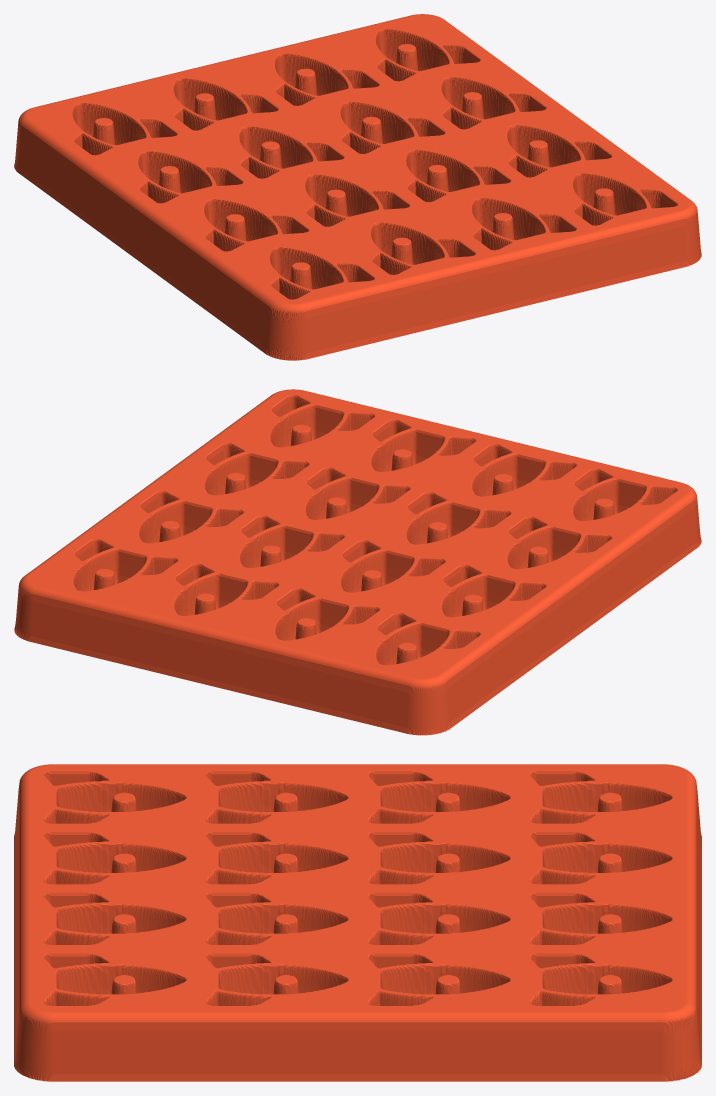
Rendered from mold.glb.
3 views of the same model, one above another, from view 1: azimuth 30°, elevation 25°; view 2: azimuth 150°, elevation 25°; view 3: azimuth 270°, elevation 25° (orthographic). The views are drawn at different scales.
Visible parts, largest first — view 1: geometry_0; view 2: geometry_0; view 3: geometry_0.
Boxes of the visible parts, box(x1,y1,x2,y2) form: geometry_0: box(14, 14, 701, 360); geometry_0: box(14, 389, 701, 735); geometry_0: box(14, 764, 701, 1081).
Bounding box in the file's own units: 0.1402 × 0.0159 × 0.1569.
